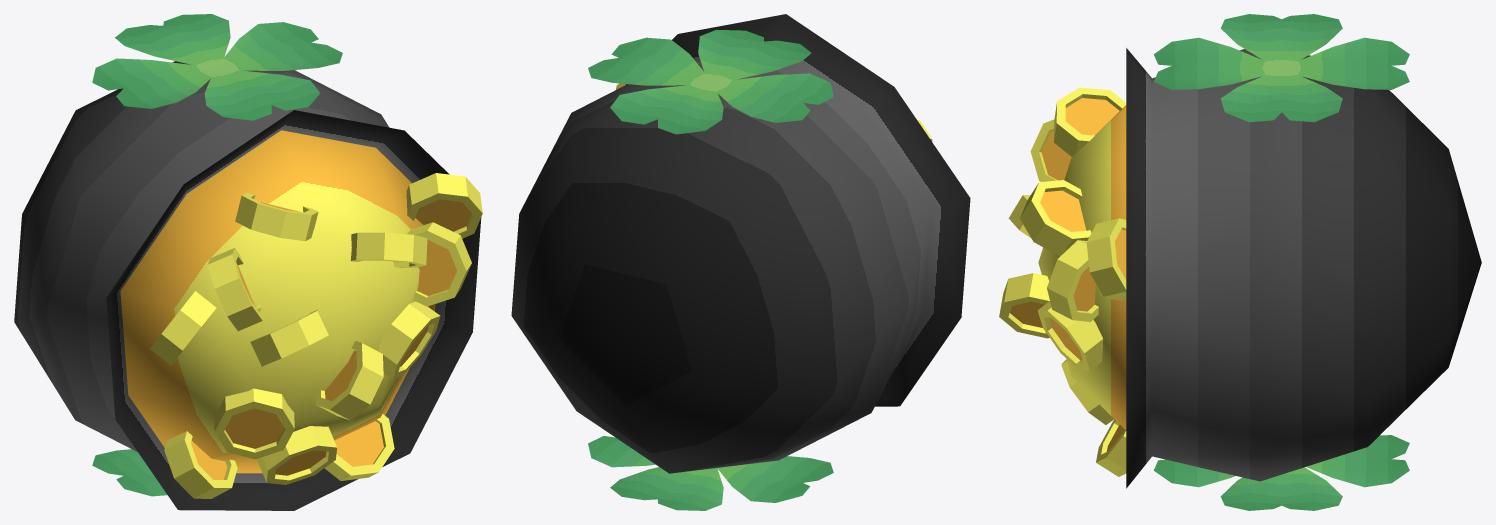
Rendered from hat-lucky.glb.
3 renders of one model, left to right at view 1: azimuth 30°, elevation 25°; view 2: azimuth 150°, elevation 25°; view 3: azimuth 270°, elevation 25°, orthographic. The views are drawn at different scales.
Parts seen in each view (by area): view 1: hat-lucky; view 2: hat-lucky; view 3: hat-lucky.
Part boxes in pixels (box(x1,y1,x2,y2)): hat-lucky: box(14, 14, 482, 510); hat-lucky: box(511, 14, 970, 510); hat-lucky: box(999, 14, 1481, 510).
Bounding box in the file's own units: 1.23 × 1.24 × 1.33.
1 material, 1 textured.
